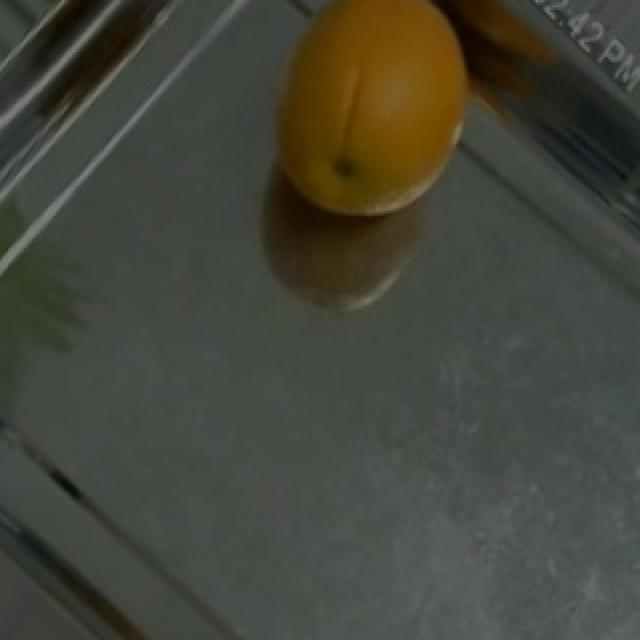Fruit: (242, 0, 498, 243)
